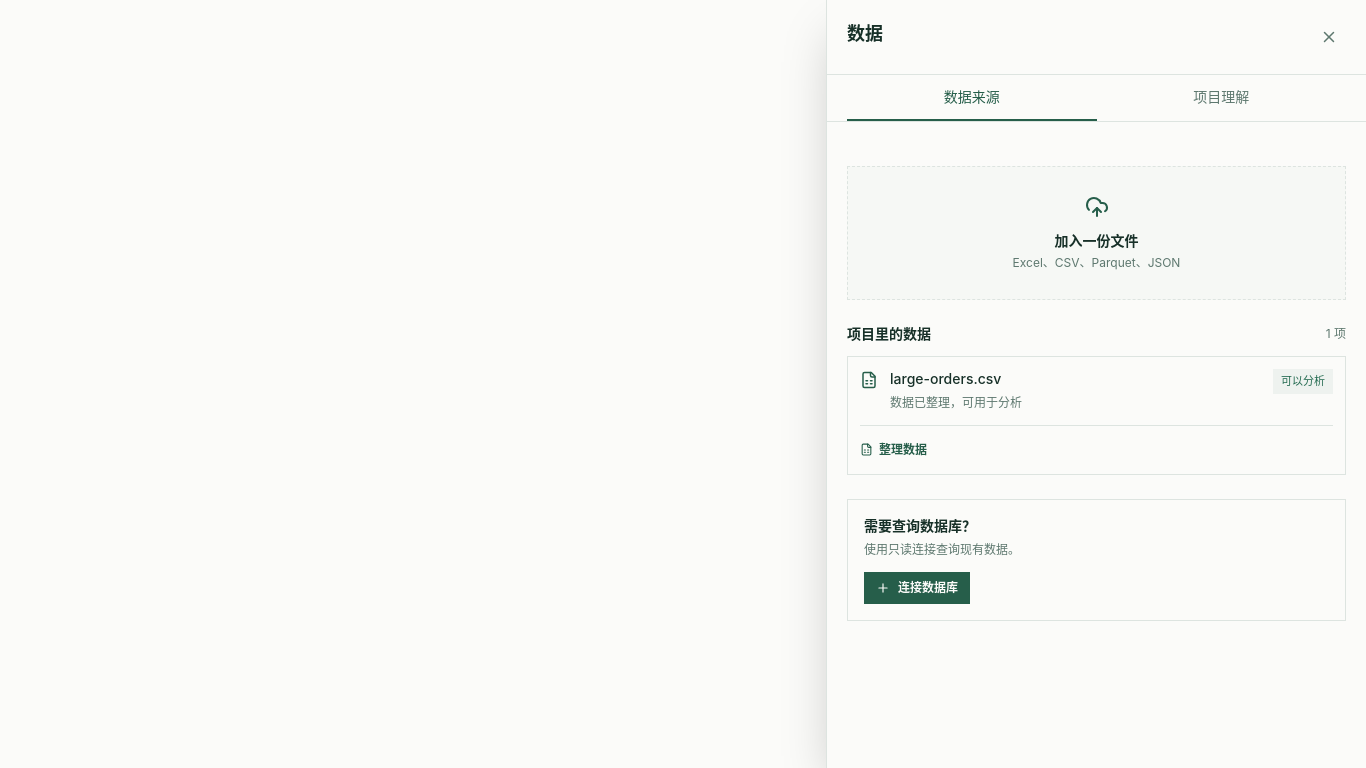
Test: DataWorkspacePanel project understanding › uses the localized preview fallback instead of an unknown API detail
Step 1. Click the button "整理数据" → {"x": 894, "y": 450}, box [860, 442, 927, 458]
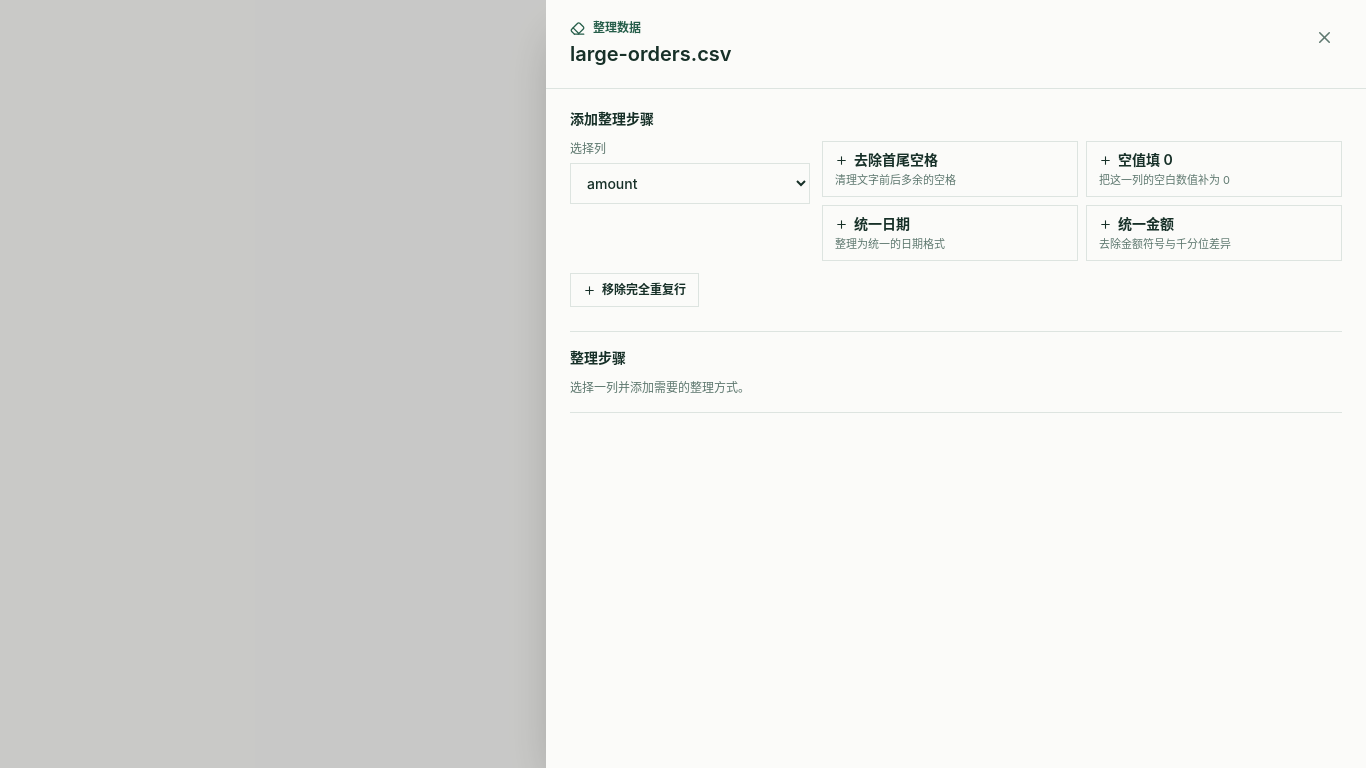
Step 2. Click the button "空值填 0 把这一列的空白数值补为 0" → {"x": 1214, "y": 169}, box [1086, 141, 1342, 197]
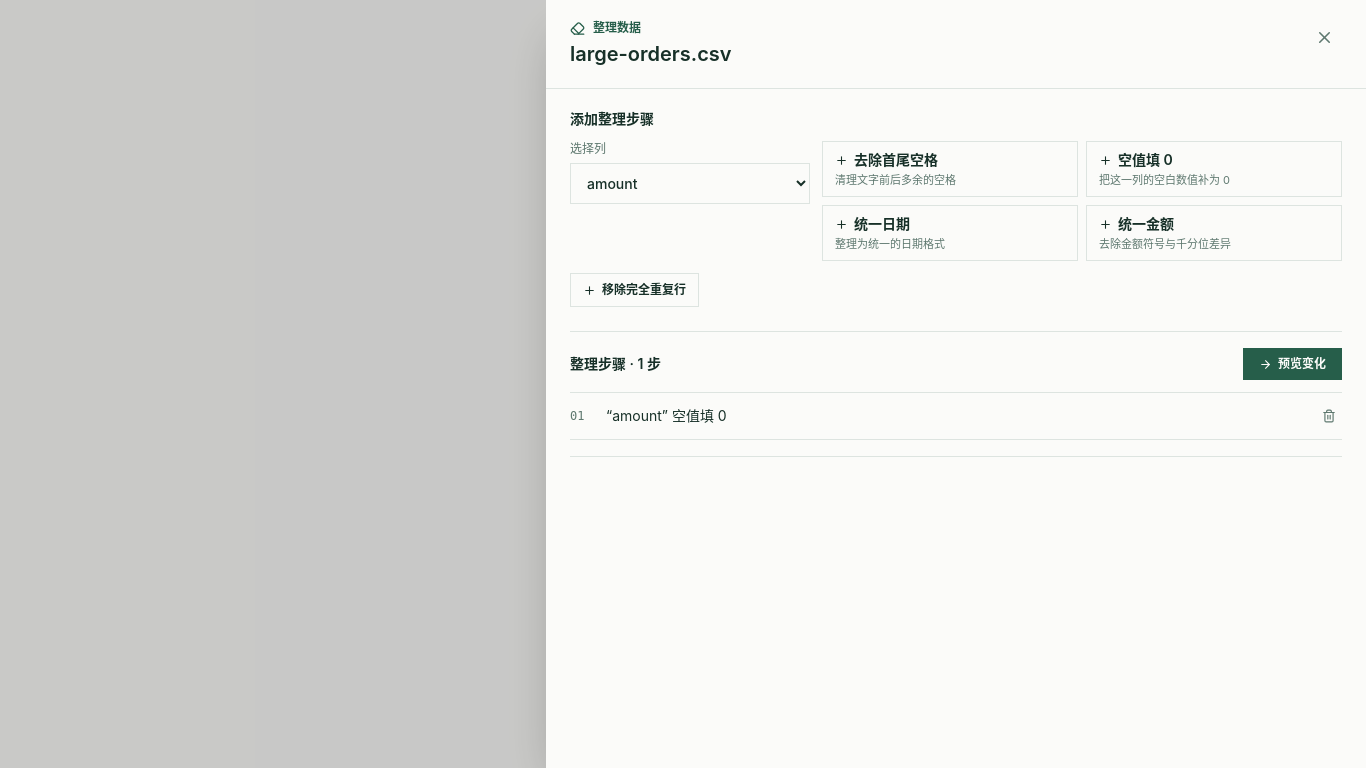
Step 3. Click the button "预览变化" → {"x": 1292, "y": 364}, box [1243, 348, 1342, 380]
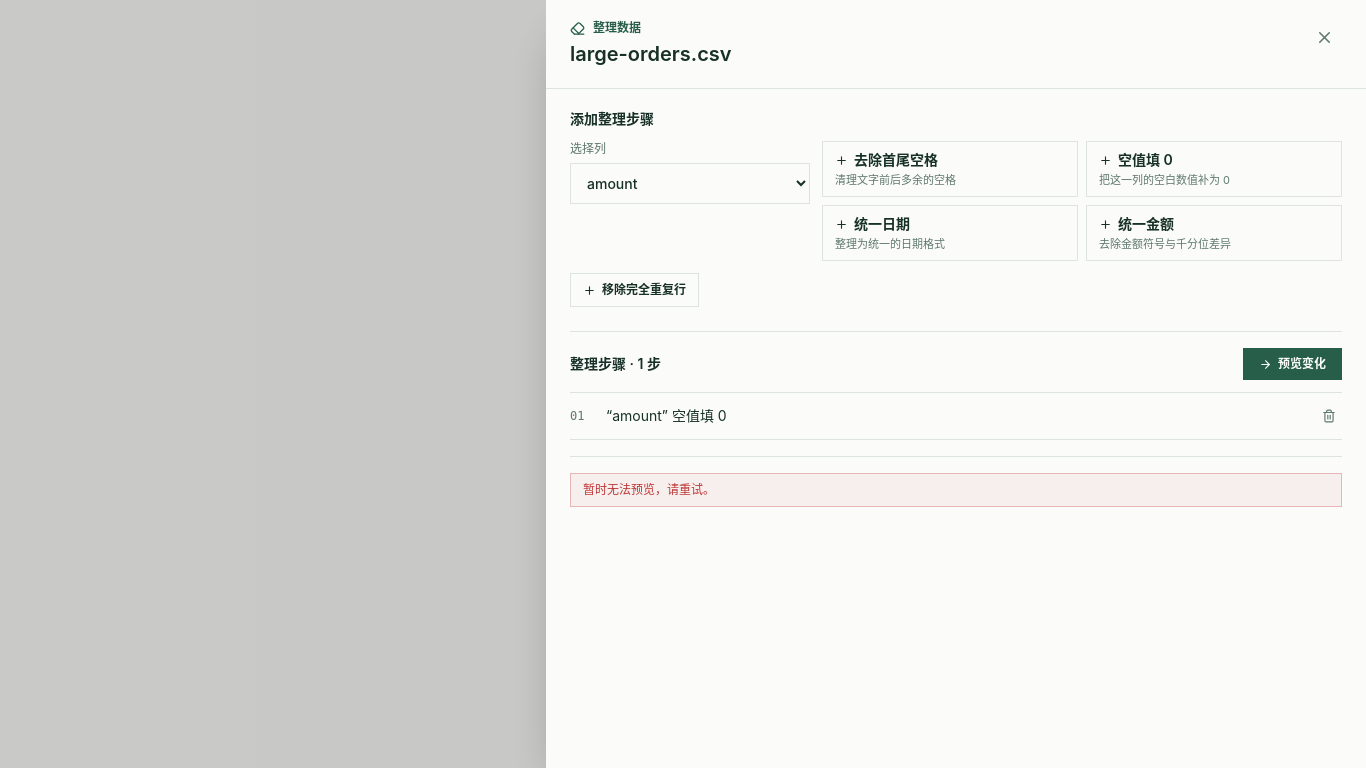
Check: the text "暂时无法预览，请重试。" is shown, box [570, 473, 1342, 507]
